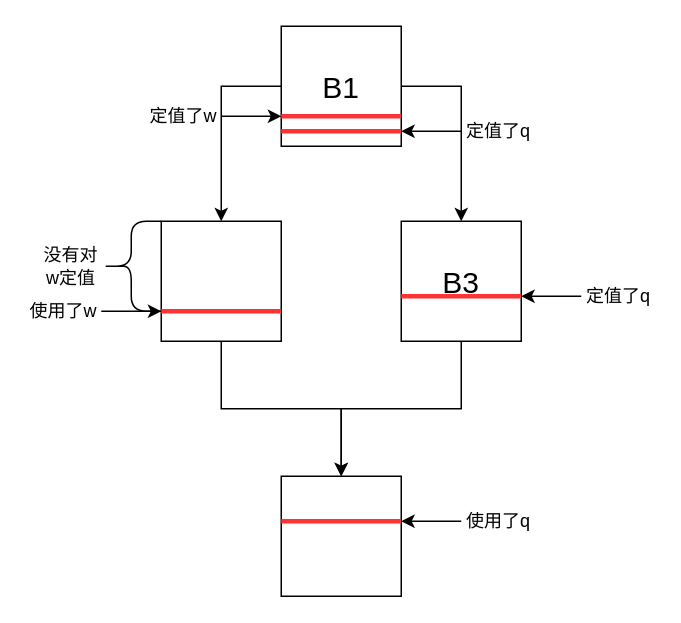
The diagram is 681 pixels wide and 623 high, and some of its shapes have lost their labels. Here are the shapes that lost their labels. From the top down, the centre of each, then its label:
At pixel 220 280: "B2".
At pixel 340 535: "B4".
